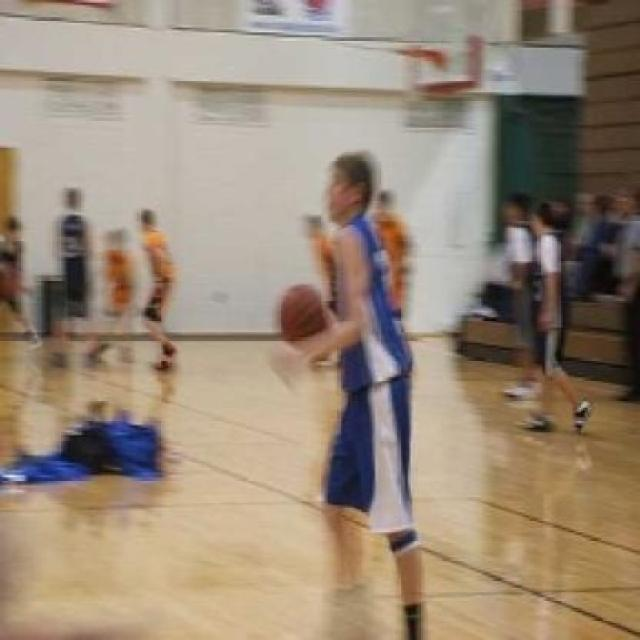basketball: (276, 275, 340, 351)
